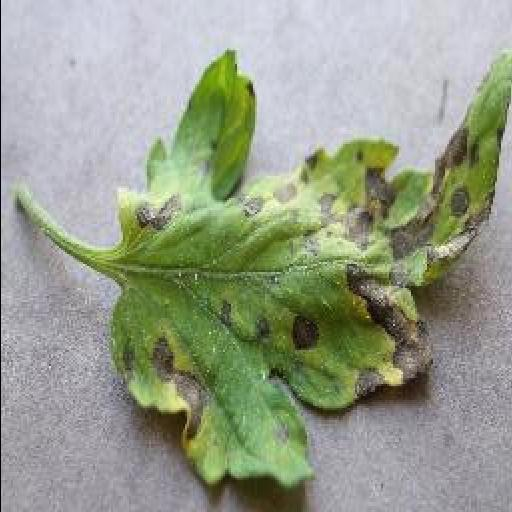disease_tomato: (102, 43, 512, 492)
